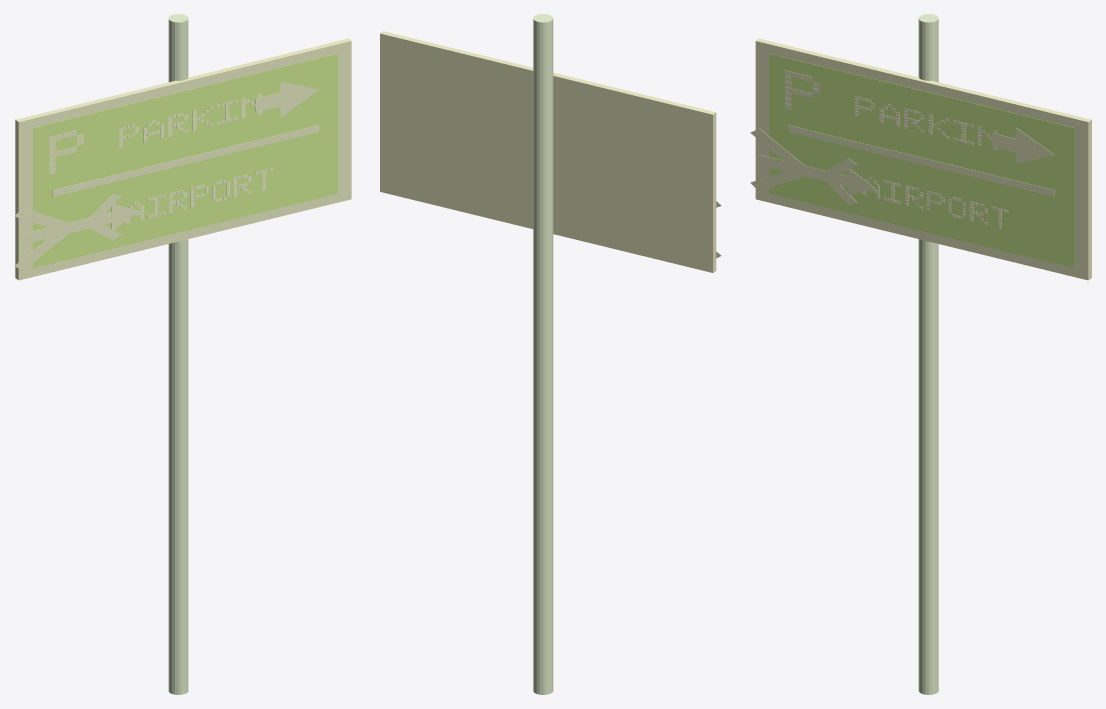
File: sign_destination_stack_airport_parking_right.glb
3 renders of one model, left to right at view 1: azimuth 30°, elevation 25°; view 2: azimuth 150°, elevation 25°; view 3: azimuth 330°, elevation 25°, orthographic.
Visible parts, largest first — view 1: layer_1_00, plate_base_00, pole, layer_2_00, layer_2_01, layer_2_227, layer_2_04, layer_2_03; view 2: plate_base_00, pole; view 3: layer_1_00, plate_base_00, pole, layer_2_00, layer_2_01, layer_2_227, layer_2_03, layer_2_04.
Boxes of the visible parts, x1,y1,x2,y2 form: layer_1_00: (33, 53, 337, 267); plate_base_00: (15, 38, 351, 280); pole: (168, 14, 188, 694); layer_2_00: (52, 125, 318, 196); layer_2_01: (21, 209, 125, 244); layer_2_227: (280, 81, 318, 117); layer_2_04: (14, 227, 70, 270); layer_2_03: (14, 207, 68, 231); plate_base_00: (380, 31, 716, 272); pole: (533, 14, 553, 694); layer_1_00: (769, 53, 1074, 267); plate_base_00: (755, 38, 1091, 280); pole: (918, 14, 938, 694); layer_2_00: (788, 125, 1054, 196); layer_2_01: (757, 154, 861, 189); layer_2_227: (1016, 127, 1054, 163); layer_2_03: (750, 128, 806, 170); layer_2_04: (750, 171, 807, 191).
Bounding box in the file's own units: 1.16 × 2.2 × 0.0725.
